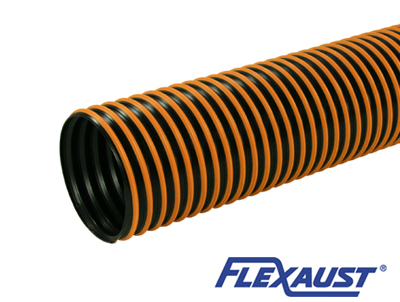Nonrec_Tangler: (35, 22, 398, 252)
